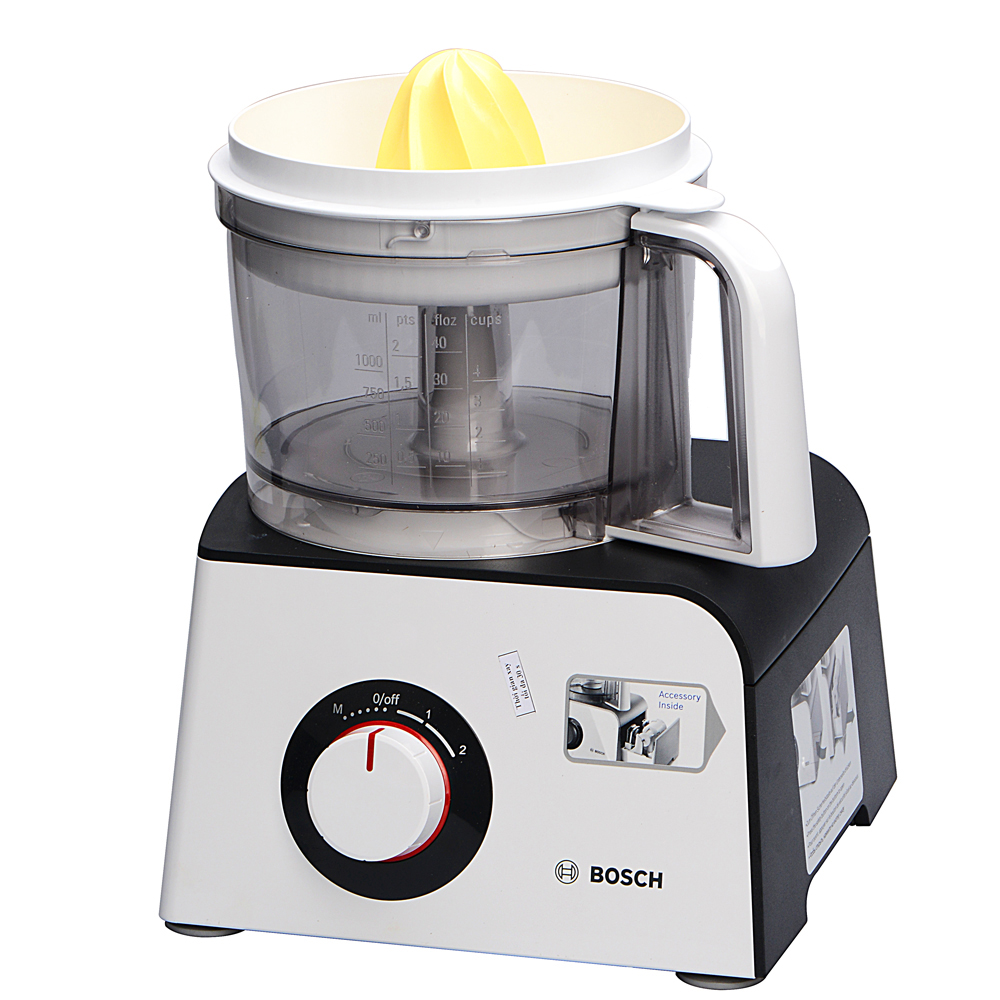Bosch: (583, 858, 674, 893)
